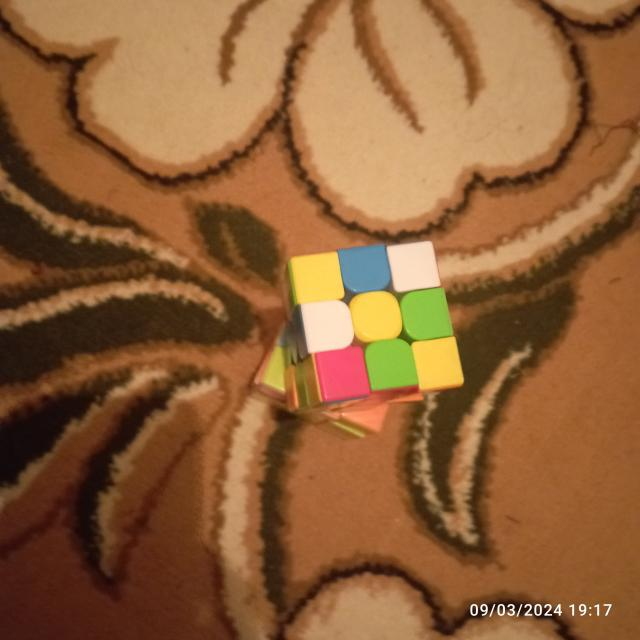Rub: (278, 231, 488, 422), (246, 296, 407, 446)
